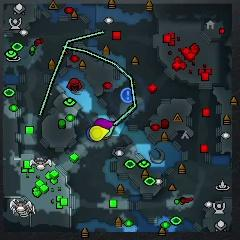Other: (121, 88, 133, 103)
p1: (87, 126, 93, 142)
p2: (102, 125, 115, 138)
p3: (94, 118, 115, 128)
p4: (90, 125, 109, 141)
